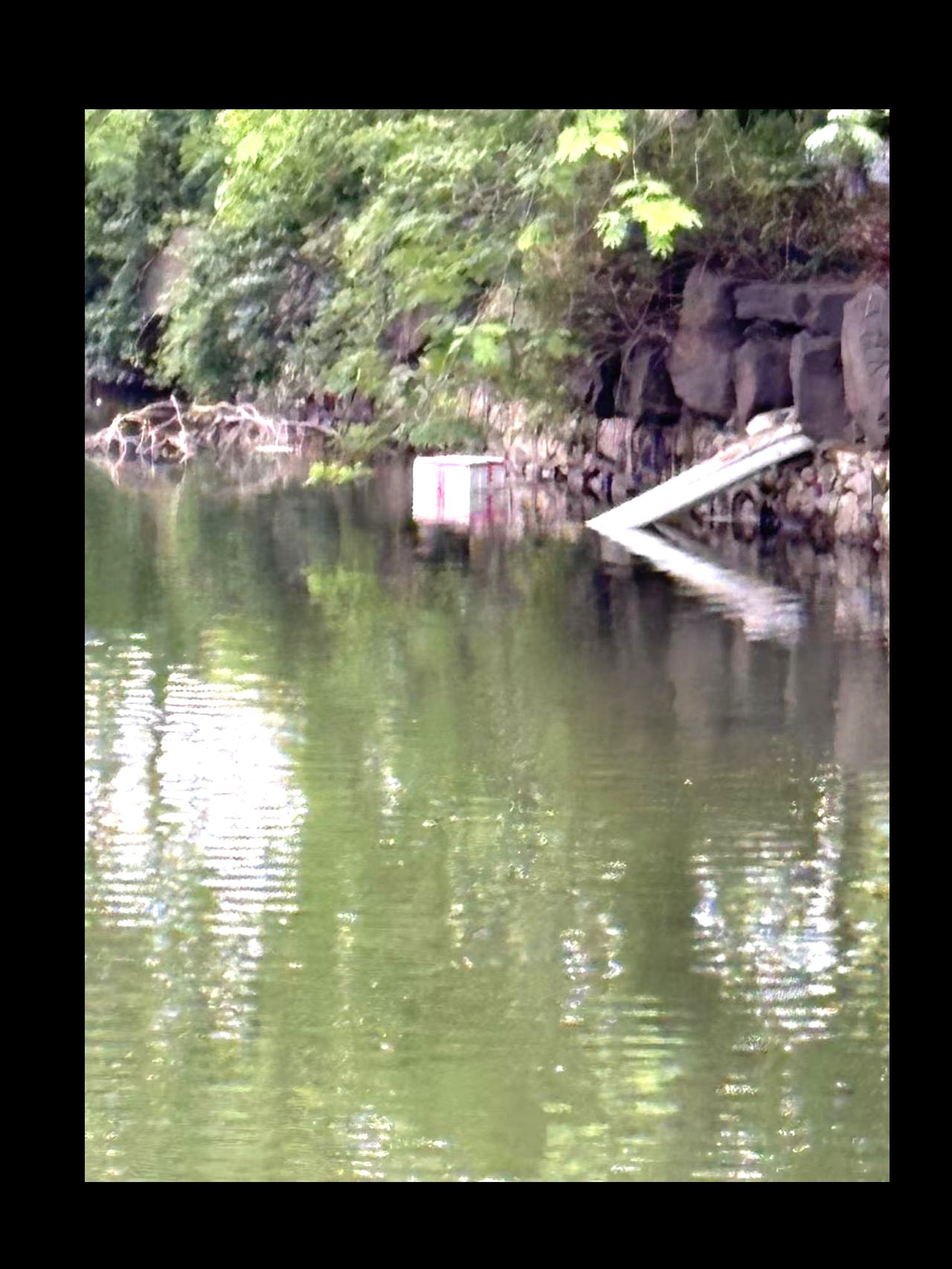Plastic wastes: (408, 448, 512, 508)
